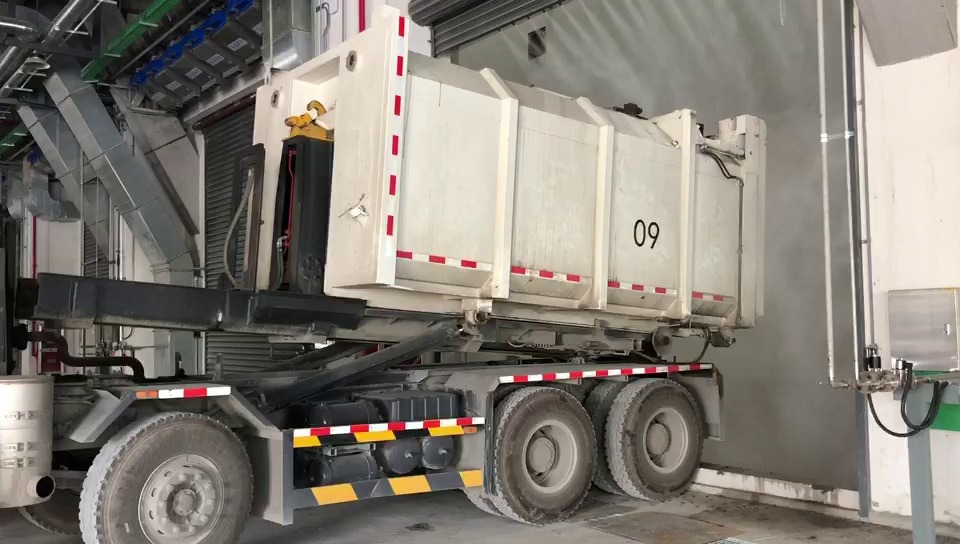truck: (0, 18, 766, 539)
